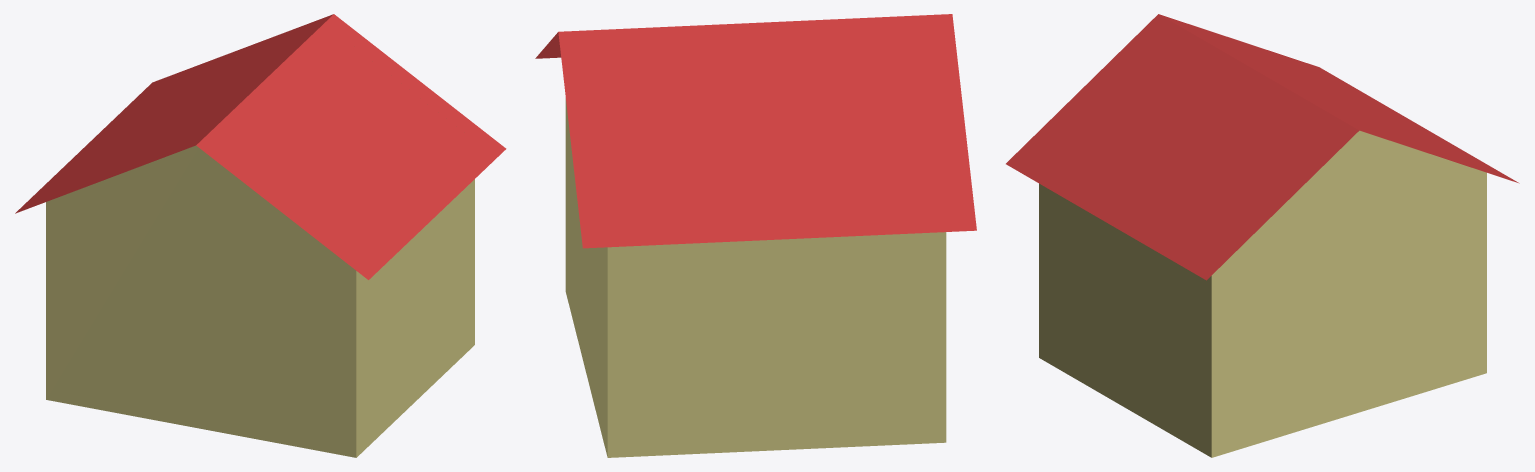
3 views of the same model, side by side, from view 1: azimuth 30°, elevation 25°; view 2: azimuth 150°, elevation 25°; view 3: azimuth 270°, elevation 25° (orthographic). The views are drawn at different scales.
Bounding box in the file's own units: 15.74 × 16.07 × 10.14.
